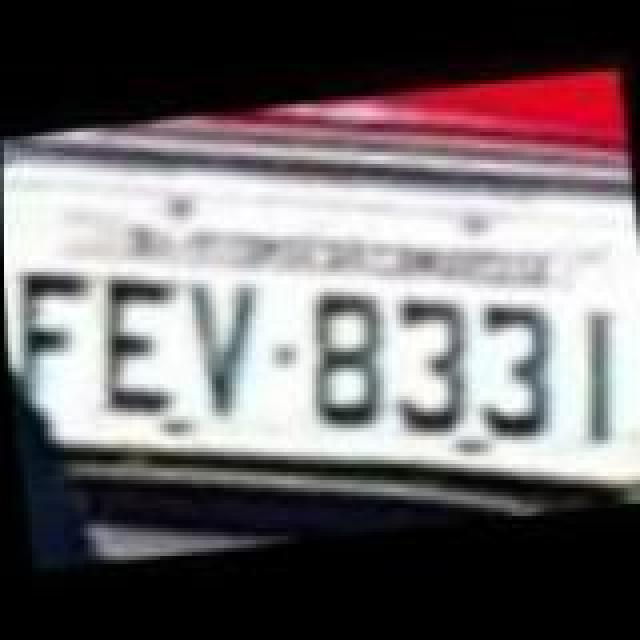1: (558, 304, 630, 452)
3: (462, 296, 558, 448), (384, 286, 476, 438)
8: (294, 282, 390, 434)
E: (80, 266, 184, 418)
F: (4, 264, 92, 412)
V: (184, 270, 272, 422)
